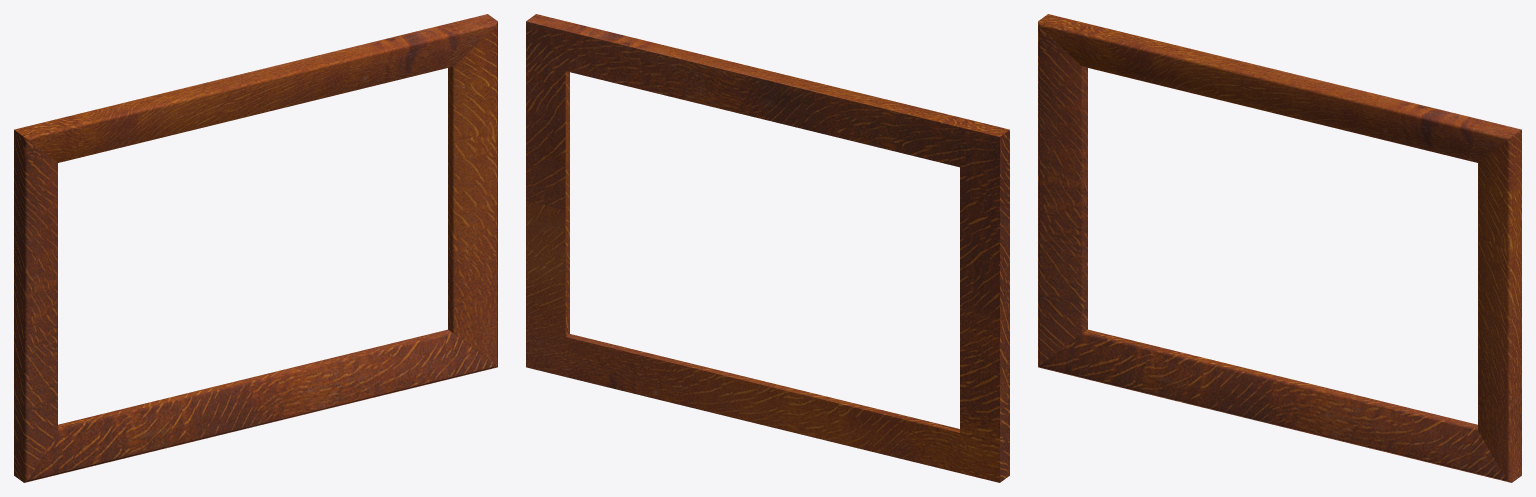
The model's file is frame.glb.
The picture shows the model from 3 angles, left to right: view 1: azimuth 30°, elevation 25°; view 2: azimuth 150°, elevation 25°; view 3: azimuth 330°, elevation 25°; orthographic projection.
Parts seen in each view (by area): view 1: pictureFrame01_MDL_nar; view 2: pictureFrame01_MDL_nar; view 3: pictureFrame01_MDL_nar.
Part boxes in pixels (x1,y1,x2,y2): pictureFrame01_MDL_nar: (14,14,497,482); pictureFrame01_MDL_nar: (526,14,1009,482); pictureFrame01_MDL_nar: (1038,14,1521,482).
Size of the model in its own units: 108 by 75.32 by 4.54.
1 material, 1 textured.
